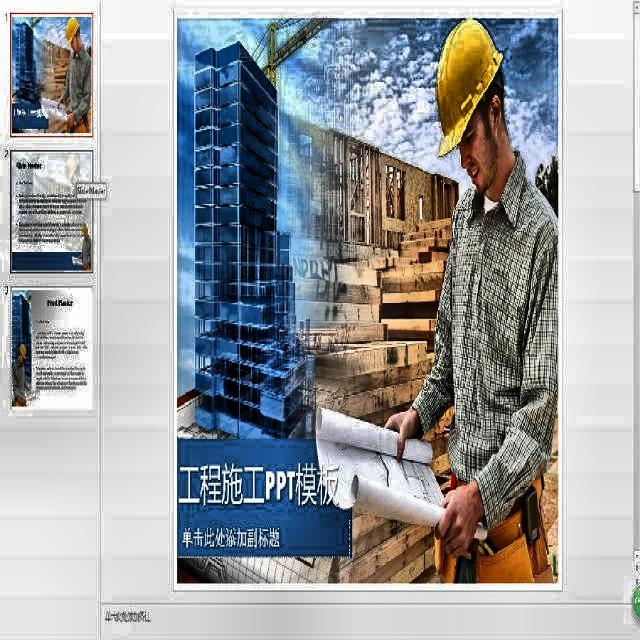person: (418, 21, 558, 584)
